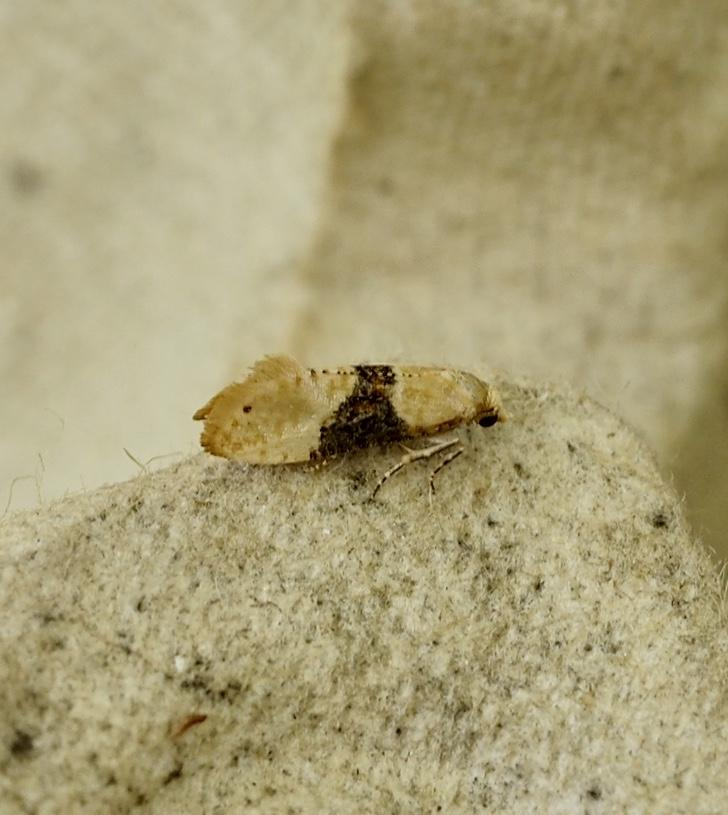Eupoecilia Ambiguella: (190, 350, 510, 505)
